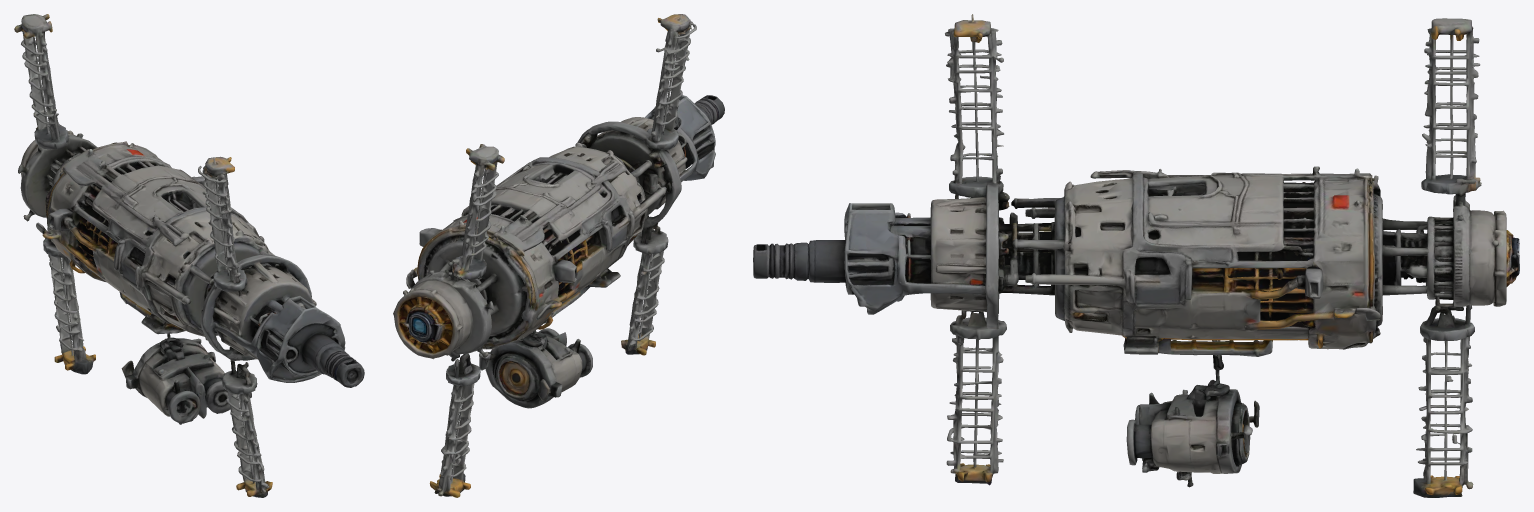
File: spacestation3.glb
The picture shows the model from 3 angles, left to right: view 1: azimuth 30°, elevation 25°; view 2: azimuth 150°, elevation 25°; view 3: azimuth 270°, elevation 25°; orthographic projection. The views are drawn at different scales.
Visible parts, largest first — view 1: tripo_node_136bacf3-3f56-4acd-b277-3c52c8e317d3; view 2: tripo_node_136bacf3-3f56-4acd-b277-3c52c8e317d3; view 3: tripo_node_136bacf3-3f56-4acd-b277-3c52c8e317d3.
Part boxes in pixels (x1,y1,x2,y2): tripo_node_136bacf3-3f56-4acd-b277-3c52c8e317d3: [14, 14, 364, 497]; tripo_node_136bacf3-3f56-4acd-b277-3c52c8e317d3: [393, 14, 724, 497]; tripo_node_136bacf3-3f56-4acd-b277-3c52c8e317d3: [753, 14, 1519, 497].
Size of the model in its own units: 0.2985 by 0.6501 by 1.
Materials: 1 (1 with a texture image).
